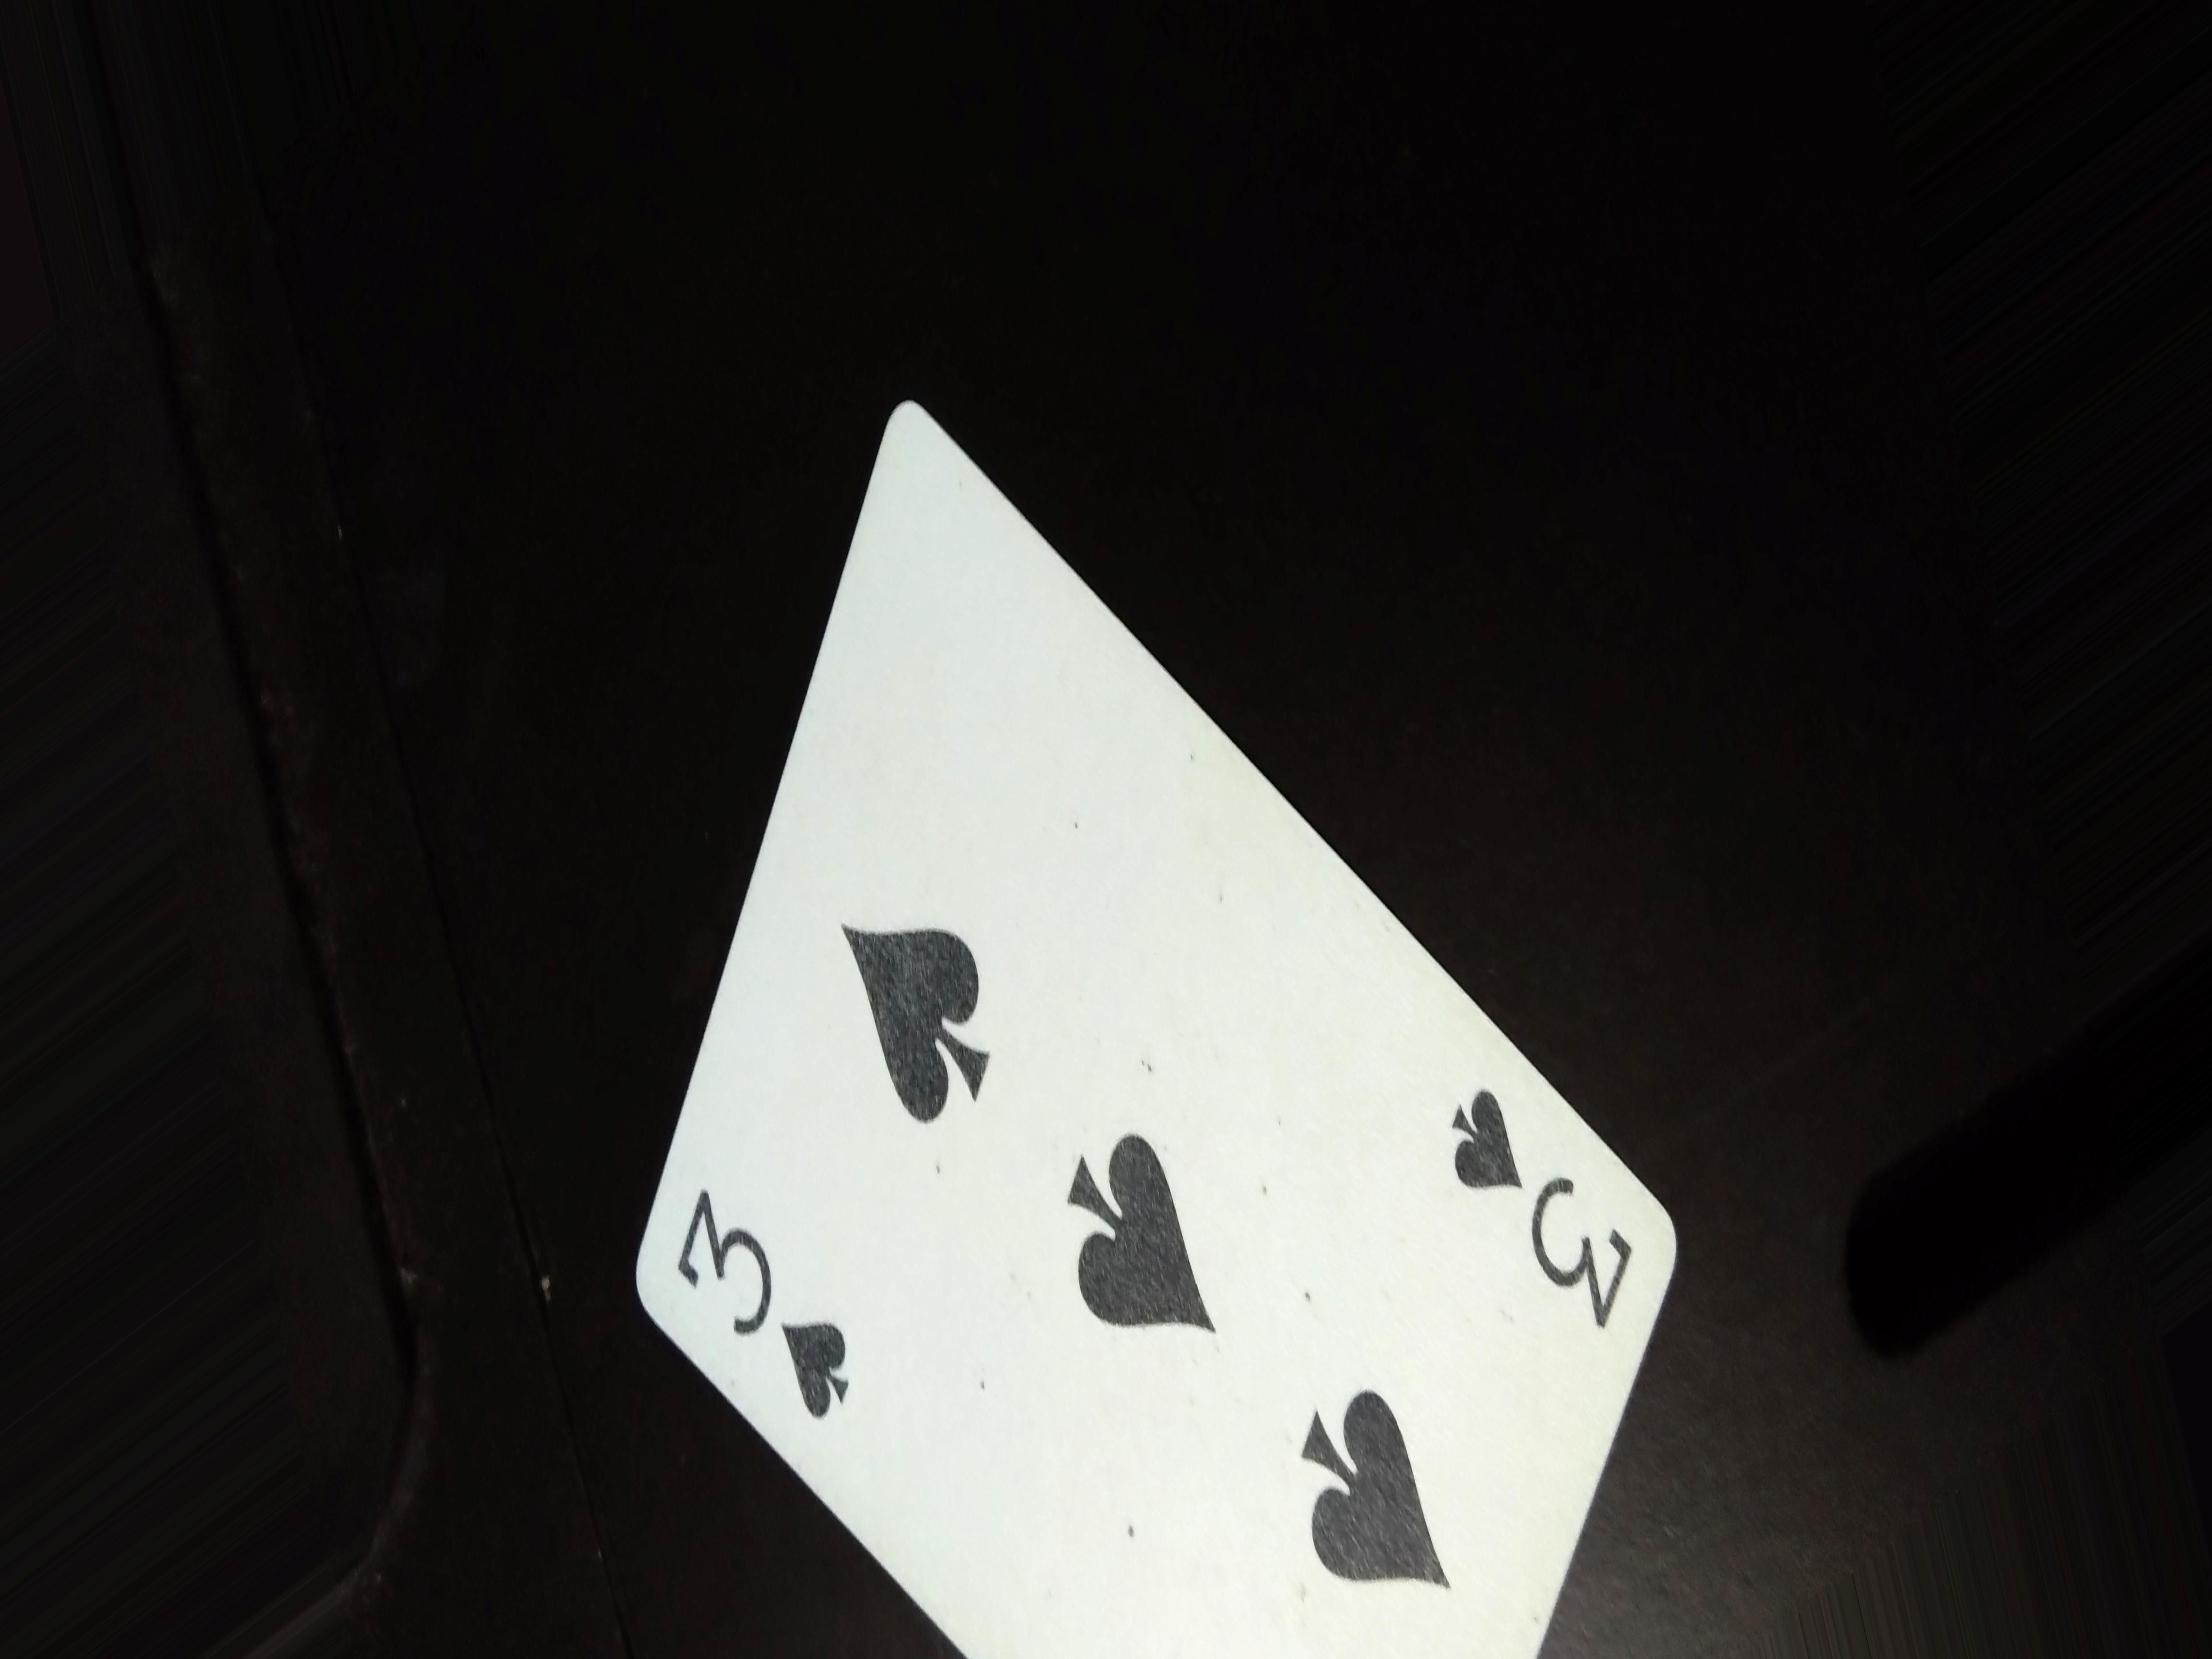3S: (1430, 1075, 1670, 1335)
